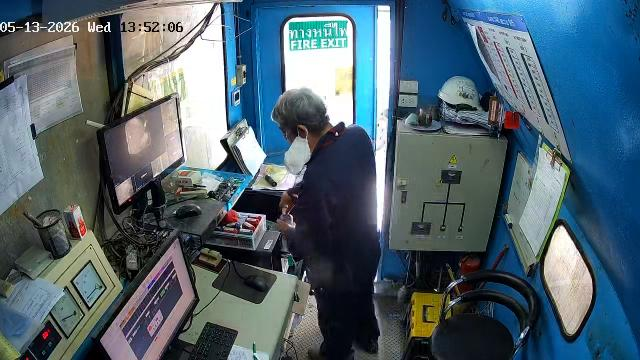Head: (272, 88, 330, 151)
People: (272, 88, 380, 359)
